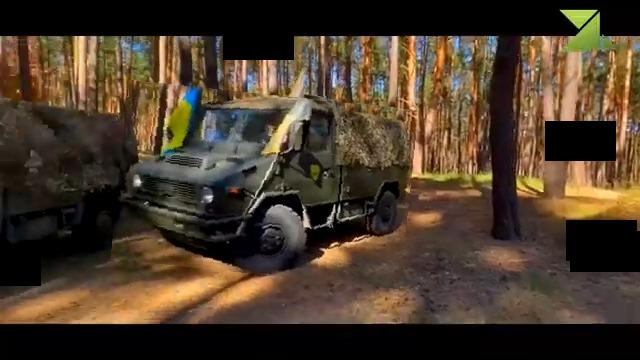MIL_HMMWV: (115, 88, 414, 282)
